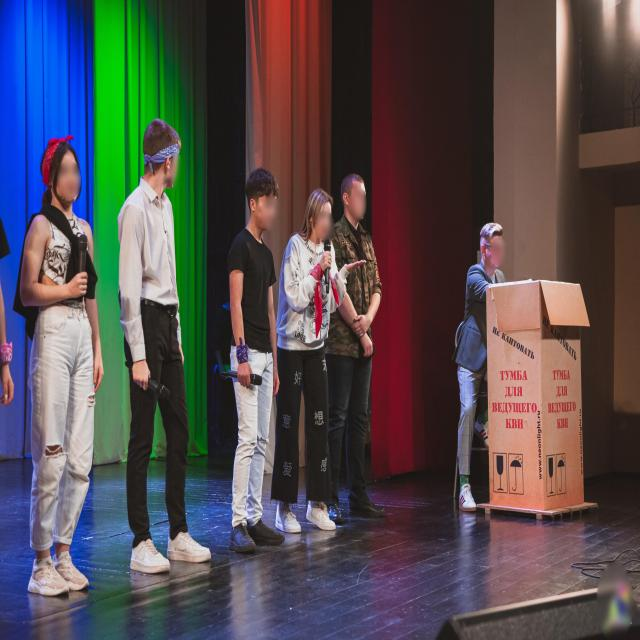Person: (24, 124, 109, 623), (130, 118, 206, 578), (226, 165, 286, 564), (281, 184, 338, 542), (452, 212, 518, 517), (336, 168, 391, 509)
